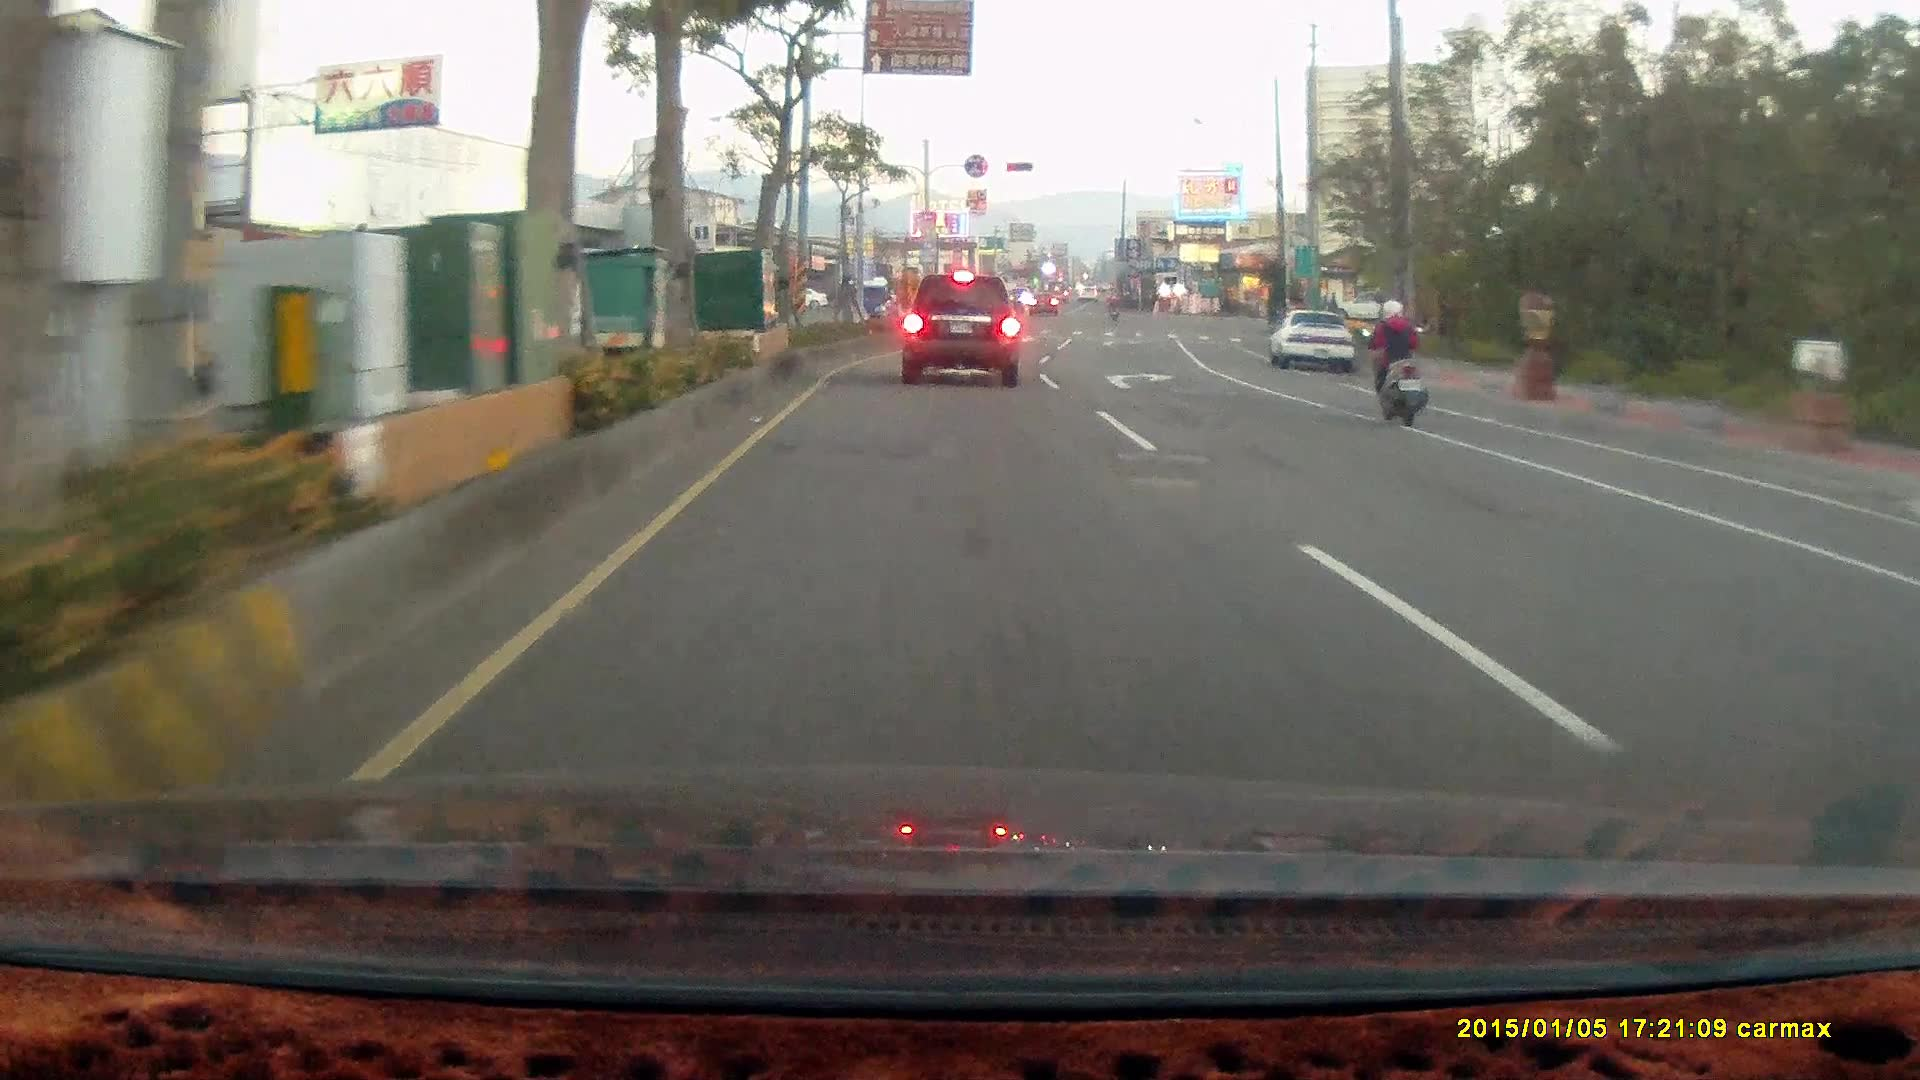rider: (1359, 295, 1428, 426)
vehicle: (901, 272, 1019, 385), (1896, 493, 1920, 836), (1265, 307, 1356, 373), (1883, 528, 1920, 690), (1272, 309, 1357, 373), (1318, 289, 1396, 325)
